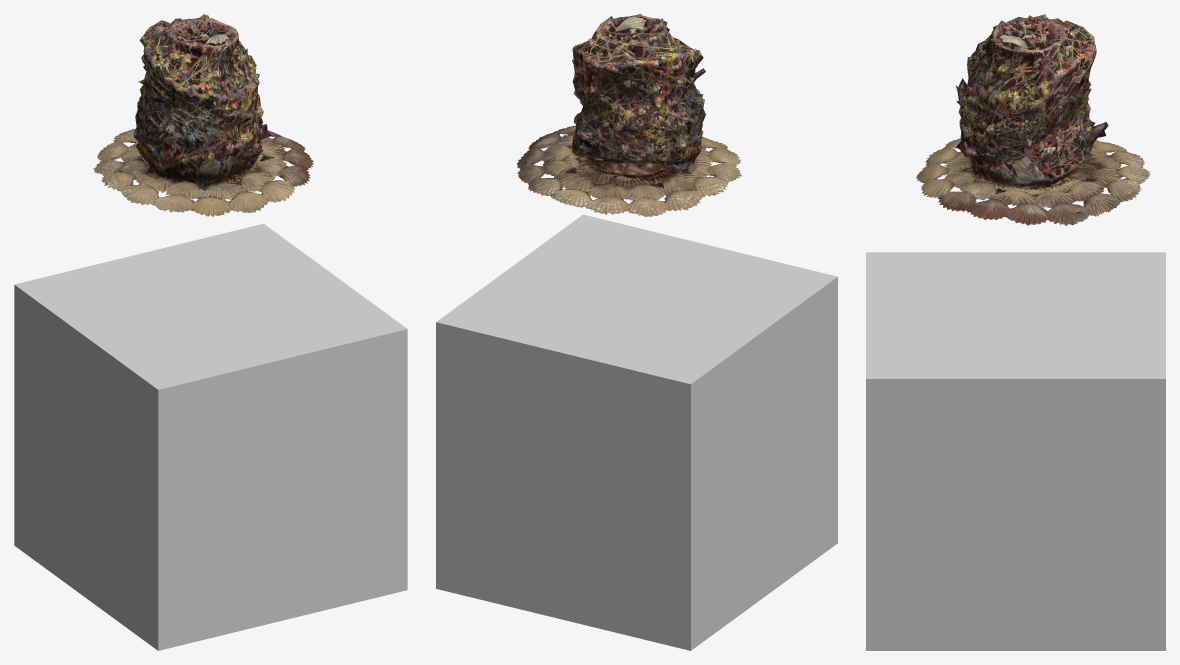
File: Tower Model .fbx
The picture shows the model from 3 angles, left to right: view 1: azimuth 30°, elevation 25°; view 2: azimuth 150°, elevation 25°; view 3: azimuth 270°, elevation 25°; orthographic projection. The views are drawn at different scales.
Parts seen in each view (by area): view 1: Cube, Tower Model; view 2: Cube, Tower Model; view 3: Cube, Tower Model.
Part boxes in pixels (x1=…): Cube: x1=14, y1=223, x2=407, y2=650; Tower Model: x1=93, y1=14, x2=313, y2=216; Cube: x1=436, y1=214, x2=837, y2=650; Tower Model: x1=517, y1=14, x2=741, y2=217; Cube: x1=866, y1=252, x2=1165, y2=650; Tower Model: x1=915, y1=14, x2=1150, y2=225.
Bounding box in the file's own units: 683 × 1401 × 683.
1 material, 1 textured.
